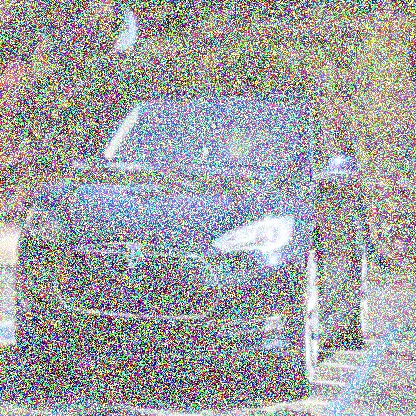Vehicle: (15, 94, 372, 398)
